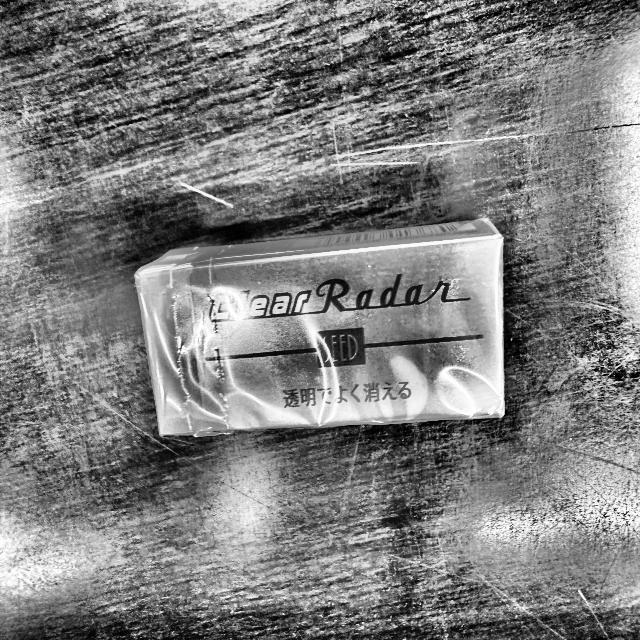eraser: (128, 214, 511, 443)
